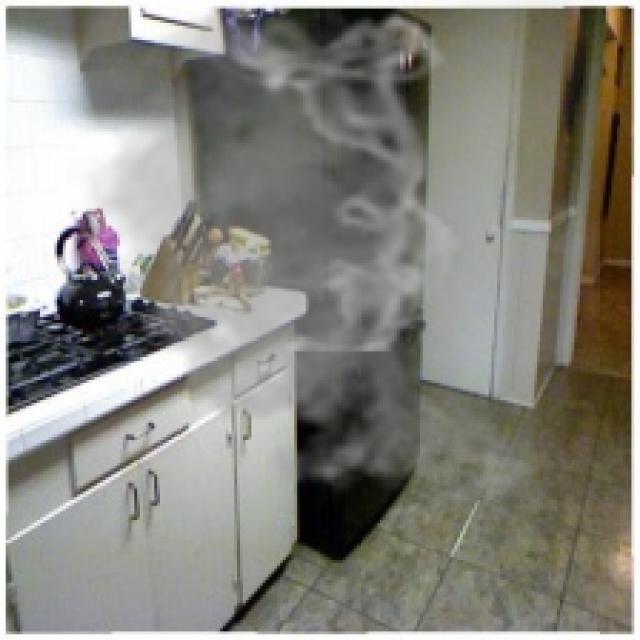smoke: (66, 0, 600, 523)
